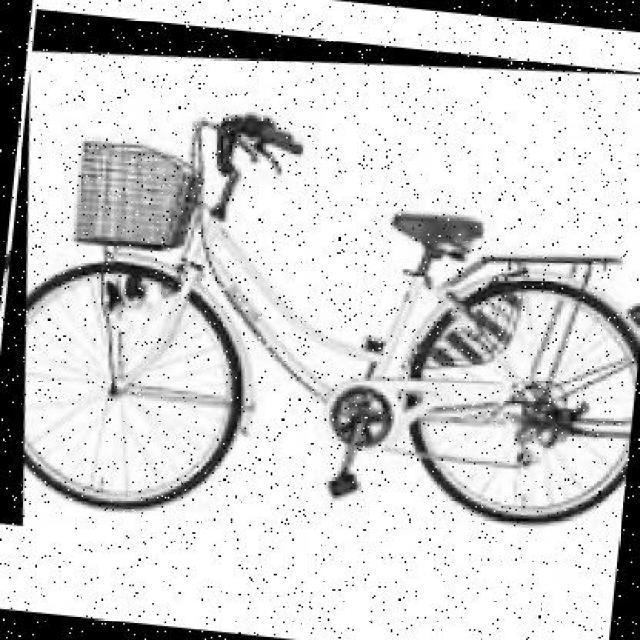bicycle: (1, 8, 639, 591)
